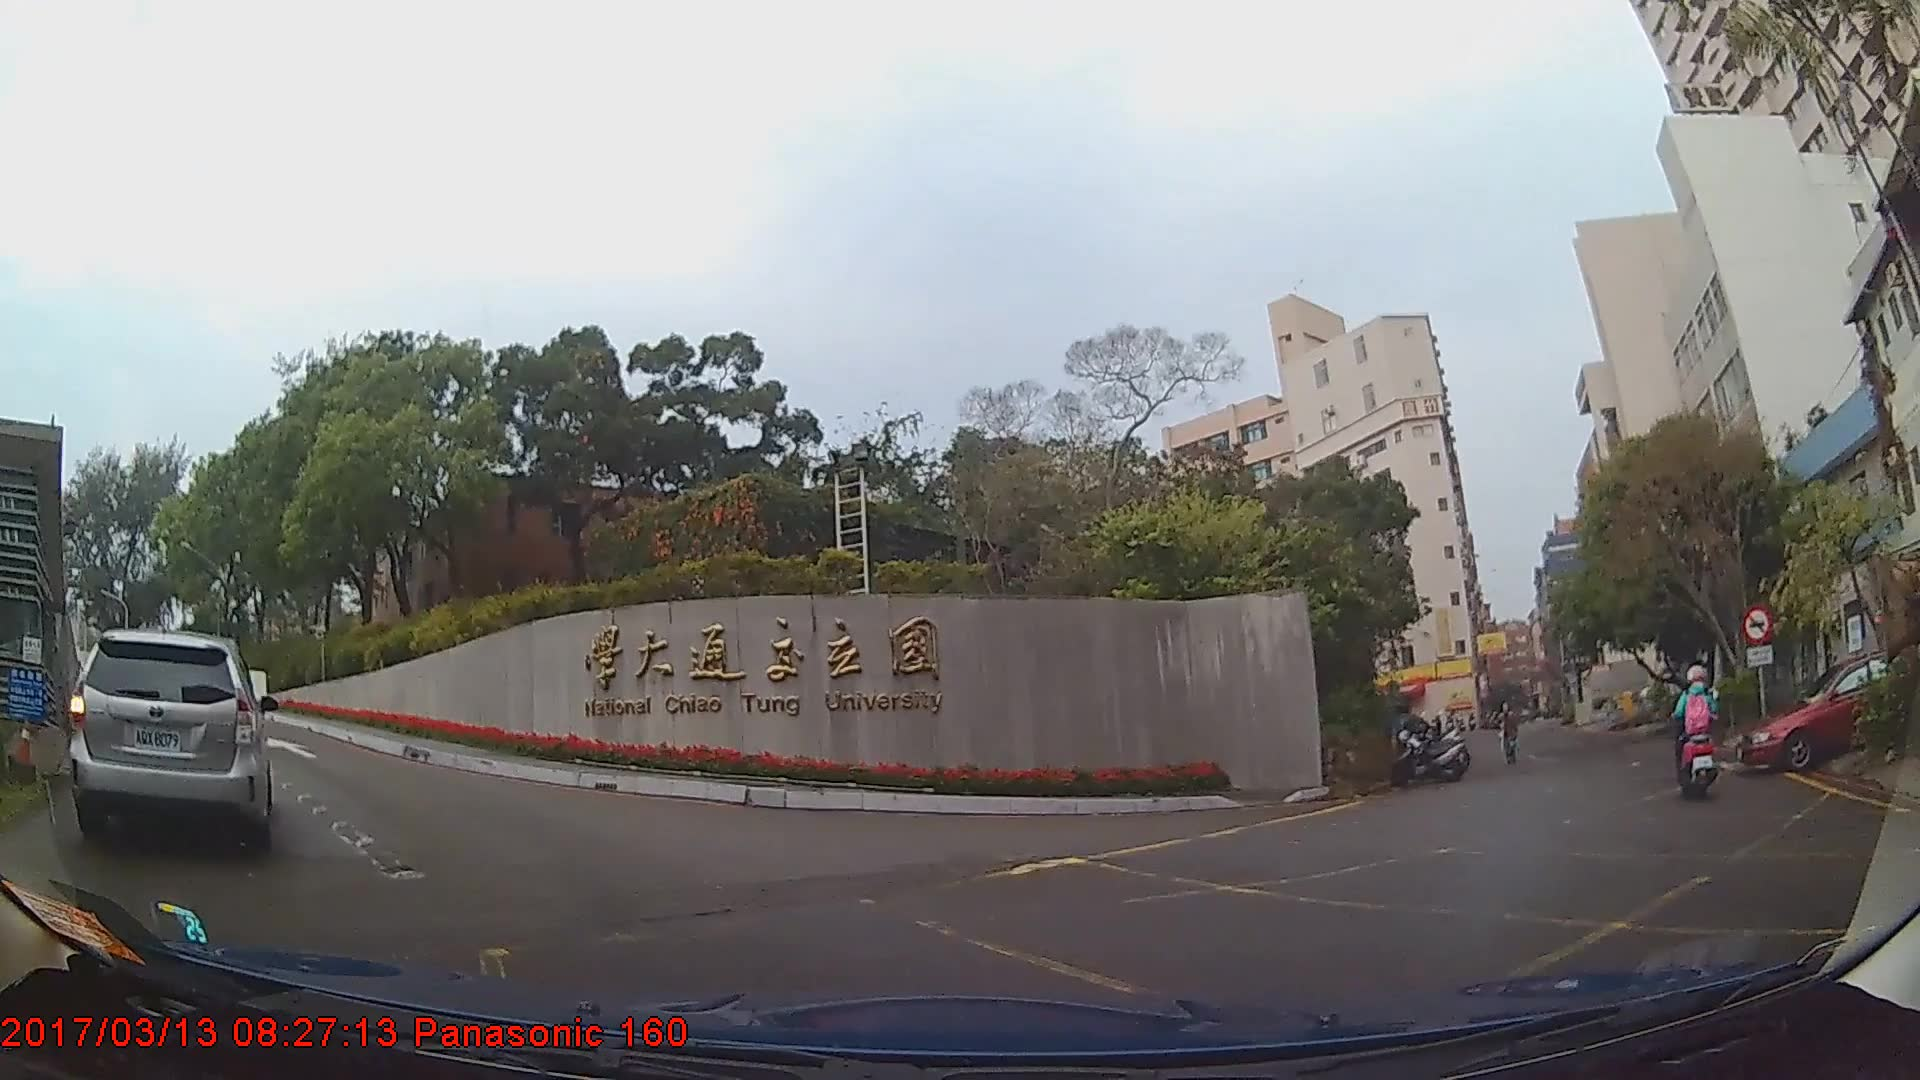pedestrian: (1494, 703, 1520, 764)
rider: (1676, 662, 1722, 801)
vehicle: (67, 626, 273, 850), (1733, 652, 1915, 774)
